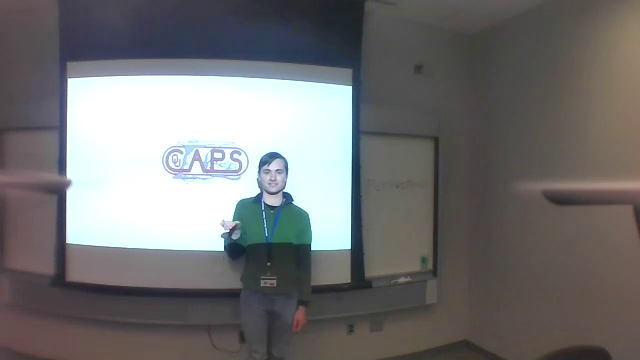land: (217, 216, 246, 239)
